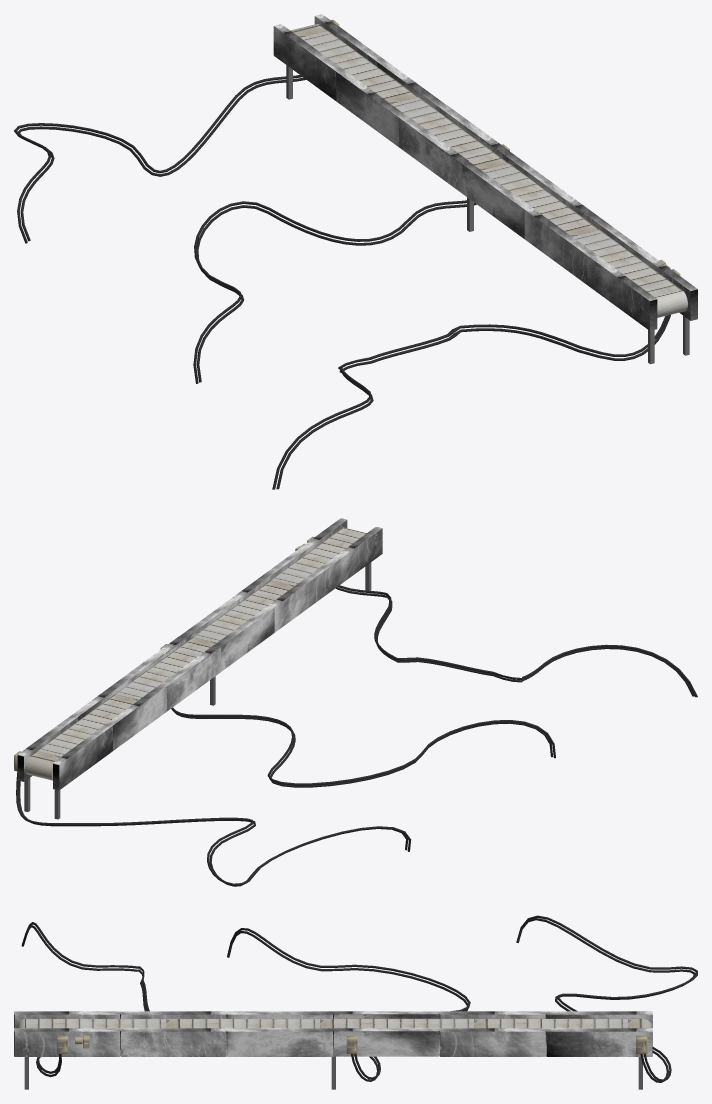
Rendered from conveyor.dae.
3 views of the same model, one above another, from view 1: azimuth 30°, elevation 25°; view 2: azimuth 150°, elevation 25°; view 3: azimuth 270°, elevation 25° (orthographic). The views are drawn at different scales.
Parts seen in each view (by area): view 1: conveyor_guards, conveyor_rollers, HV_wire_BezierCurve, HV_wire_BezierCurve.001, HV_wire_BezierCurve.002, conveyor_legs; view 2: conveyor_guards, conveyor_rollers, HV_wire_BezierCurve.001, HV_wire_BezierCurve.002, HV_wire_BezierCurve, conveyor_legs; view 3: conveyor_guards, conveyor_rollers, HV_wire_BezierCurve.002, HV_wire_BezierCurve.001, HV_wire_BezierCurve, Cube.033, conveyor_legs.
Boxes of the visible parts, left/top/right/bottom form: conveyor_guards: left=273, top=14, right=697, bottom=330; conveyor_rollers: left=290, top=24, right=687, bottom=317; HV_wire_BezierCurve: left=272, top=314, right=670, bottom=489; HV_wire_BezierCurve.001: left=193, top=200, right=476, bottom=383; HV_wire_BezierCurve.002: left=14, top=75, right=306, bottom=243; conveyor_legs: left=286, top=65, right=689, bottom=364; conveyor_guards: left=17, top=518, right=382, bottom=790; conveyor_rollers: left=25, top=527, right=366, bottom=780; HV_wire_BezierCurve.001: left=171, top=707, right=555, bottom=787; HV_wire_BezierCurve.002: left=16, top=772, right=411, bottom=886; HV_wire_BezierCurve: left=335, top=585, right=697, bottom=697; conveyor_legs: left=24, top=562, right=371, bottom=819; conveyor_guards: left=14, top=1011, right=652, bottom=1056; conveyor_rollers: left=17, top=1018, right=651, bottom=1028; HV_wire_BezierCurve.002: left=516, top=915, right=697, bottom=1082; HV_wire_BezierCurve.001: left=227, top=928, right=470, bottom=1081; HV_wire_BezierCurve: left=21, top=922, right=149, bottom=1077; Cube.033: left=57, top=1035, right=647, bottom=1053; conveyor_legs: left=24, top=1056, right=642, bottom=1089.
Bounding box in the file's own units: 5.94 × 9.64 × 1.35.
7 materials, 4 textured.
